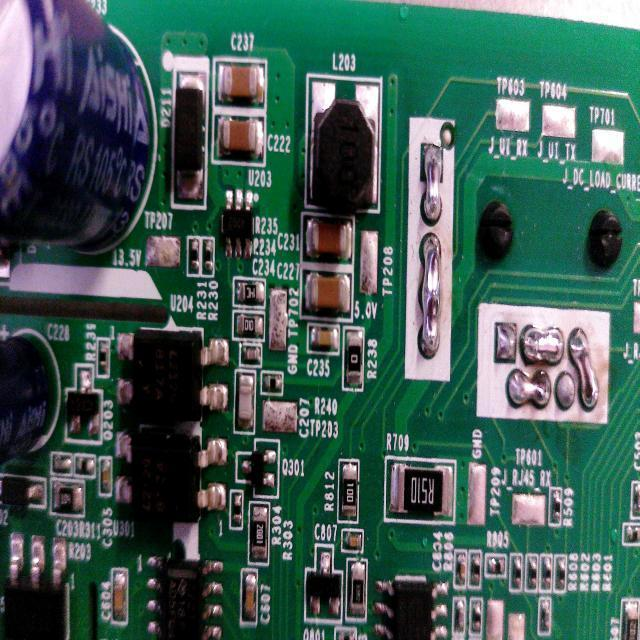Soldering shorted: (420, 231, 446, 365), (568, 328, 605, 420), (507, 366, 555, 419), (422, 141, 444, 231), (518, 320, 563, 364)
